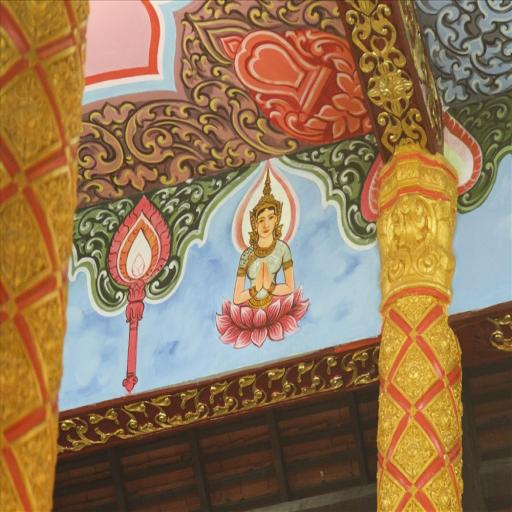than: (218, 146, 313, 362)
